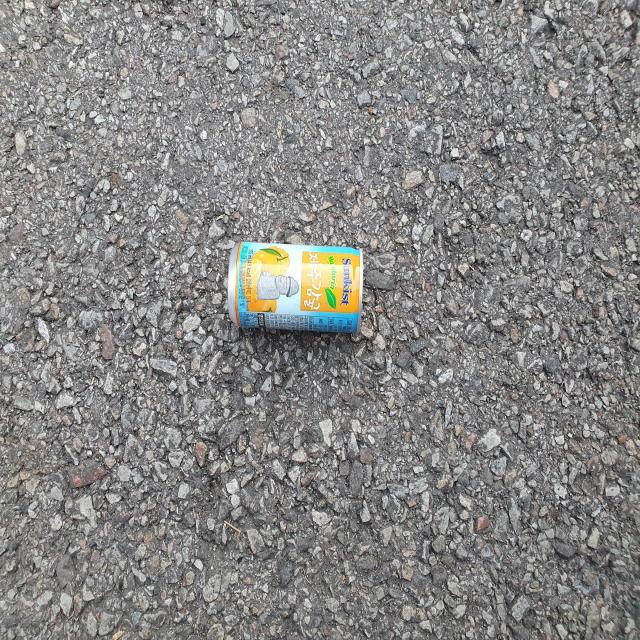can: (228, 241, 363, 333)
